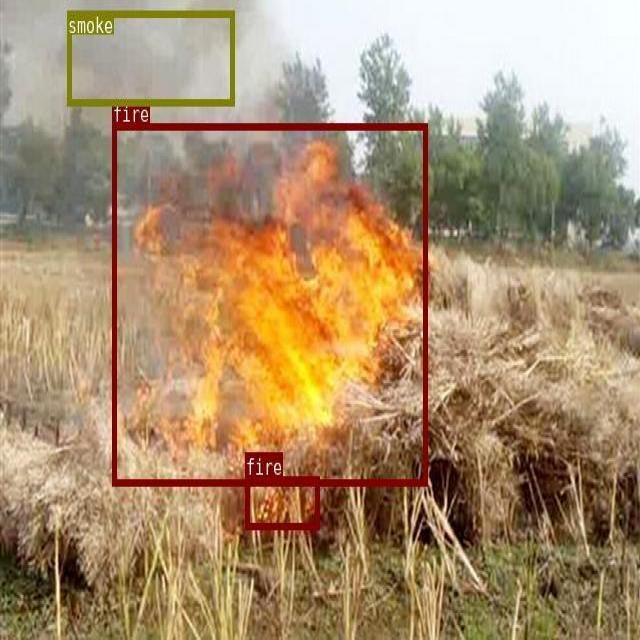fire: (111, 123, 426, 485), (244, 476, 319, 529)
smoke: (67, 10, 233, 104)
